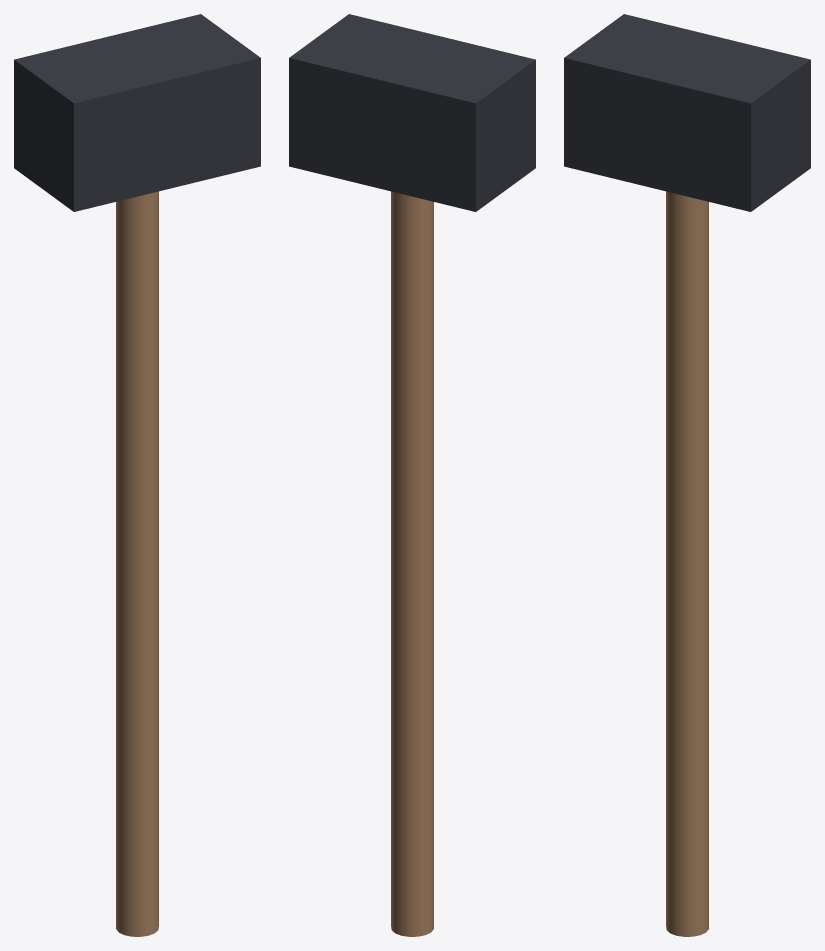
File: hammer.glb
The picture shows the model from 3 angles, left to right: view 1: azimuth 30°, elevation 25°; view 2: azimuth 150°, elevation 25°; view 3: azimuth 330°, elevation 25°; orthographic projection.
Parts seen in each view (by area): view 1: box, cyl; view 2: box, cyl; view 3: box, cyl.
Part boxes in pixels (x1,y1,x2,y2): box: [14, 14, 260, 211]; cyl: [116, 191, 158, 936]; box: [289, 14, 535, 211]; cyl: [391, 191, 433, 936]; box: [564, 14, 810, 211]; cyl: [666, 191, 708, 936].
Size of the model in its own units: 0.18 by 0.8 by 0.1.
